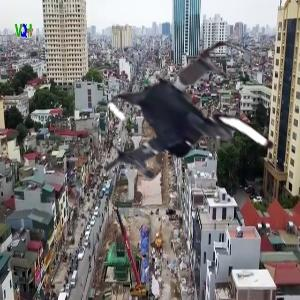drone: (88, 29, 298, 239)
